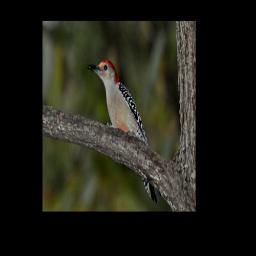Woodpecker: (86, 59, 158, 204)
